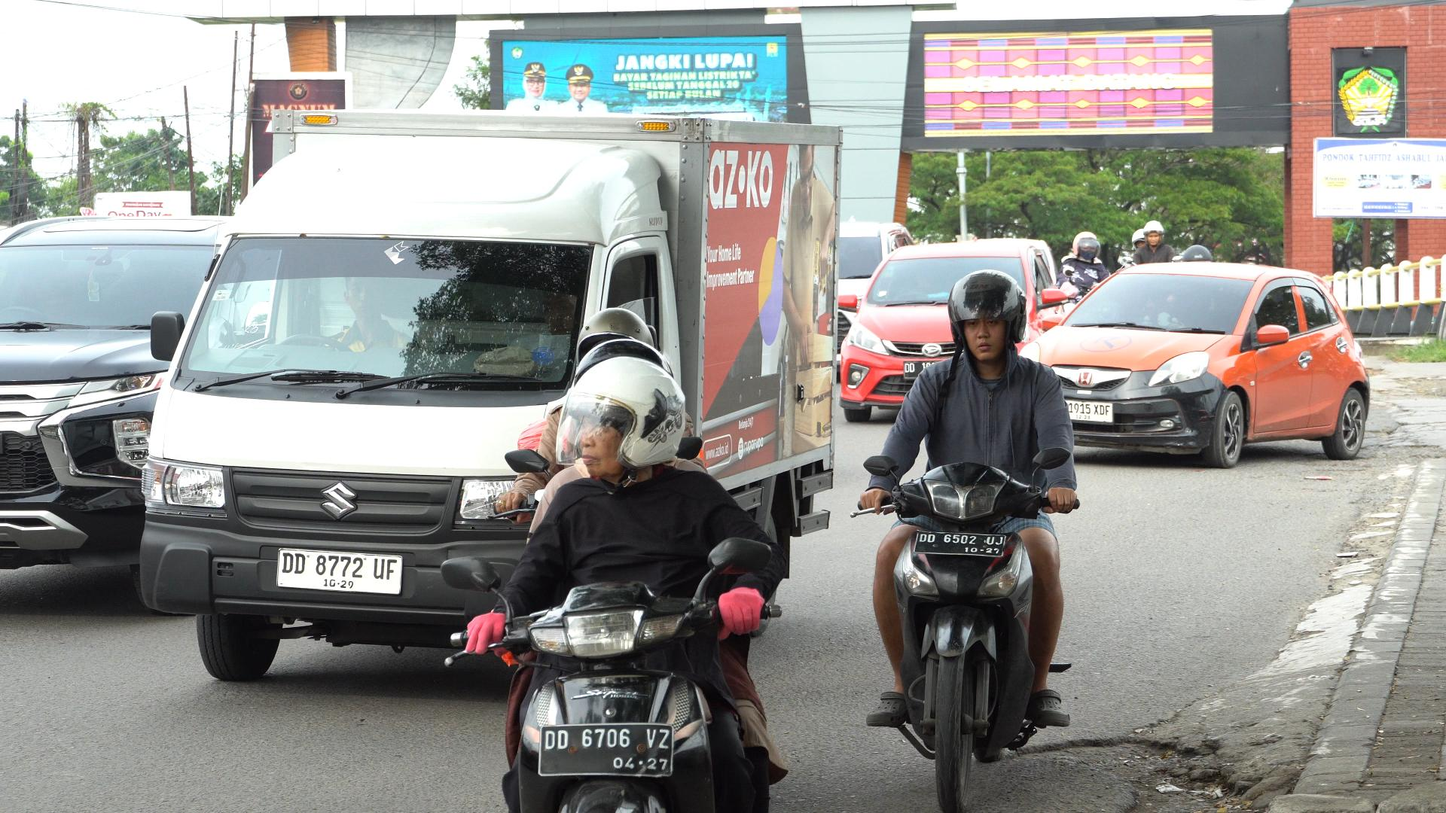number-plate: (541, 721, 674, 781), (910, 530, 1010, 560)
